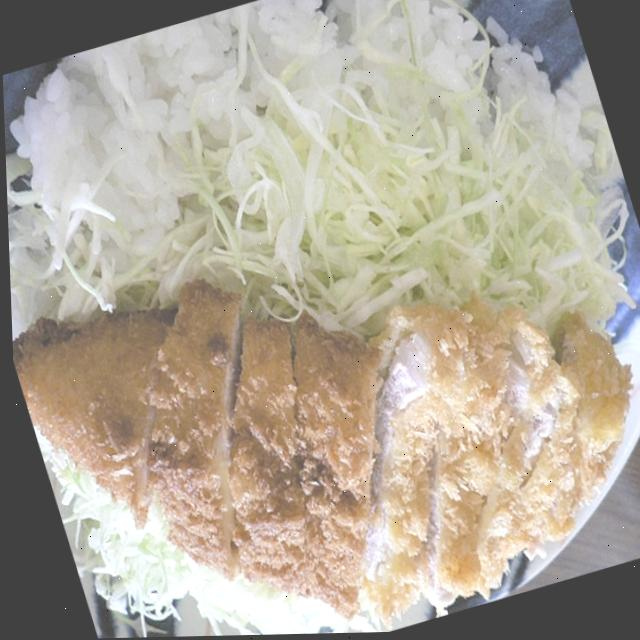鸡肉料理 含炸鸡: (4, 111, 640, 640)
